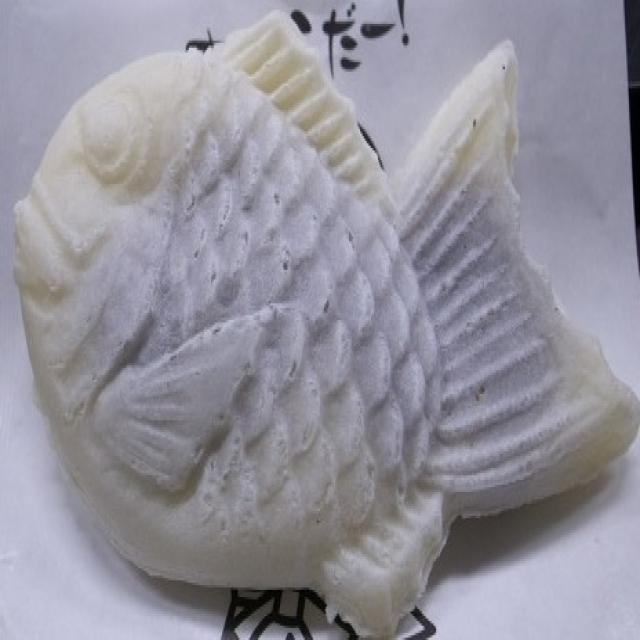熟制海鲜: (4, 9, 640, 640)
